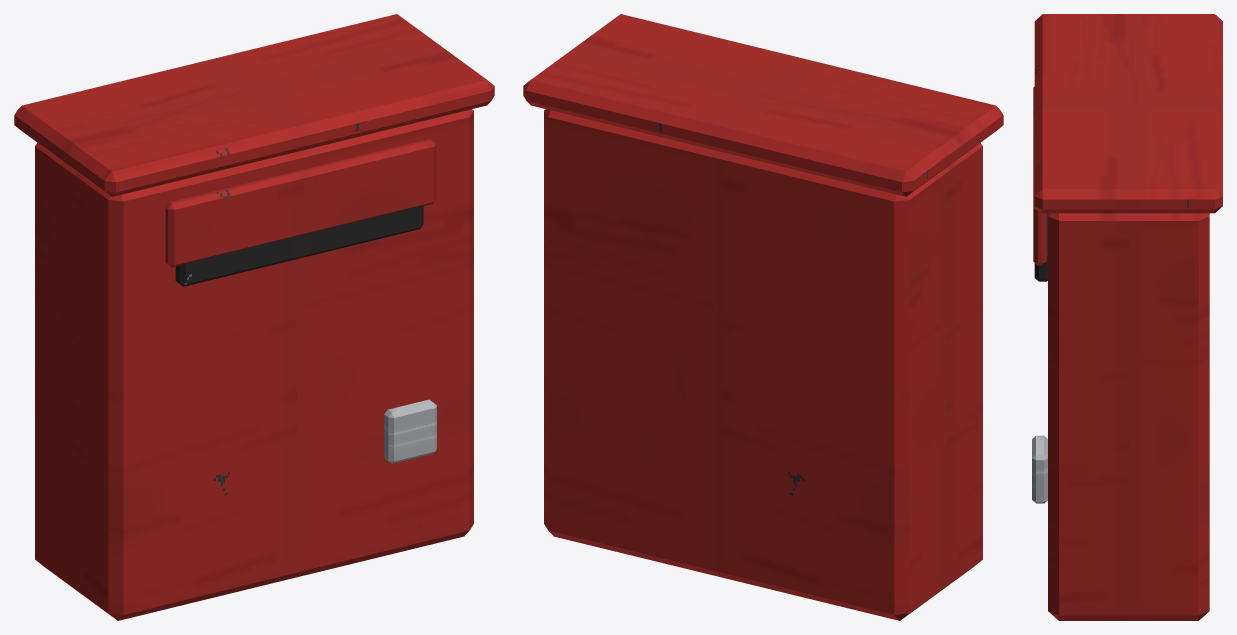
File: mailbox.glb
The picture shows the model from 3 angles, left to right: view 1: azimuth 30°, elevation 25°; view 2: azimuth 150°, elevation 25°; view 3: azimuth 270°, elevation 25°; orthographic projection. The views are drawn at different scales.
Visible parts, largest first — view 1: p; view 2: p; view 3: p.
Part boxes in pixels (x1,y1,x2,y2): p: (14,14,494,620); p: (523,14,1003,620); p: (1032,14,1222,620).
Bounding box in the file's own units: 0.32 × 0.36 × 0.142.
3 materials, 3 textured.
